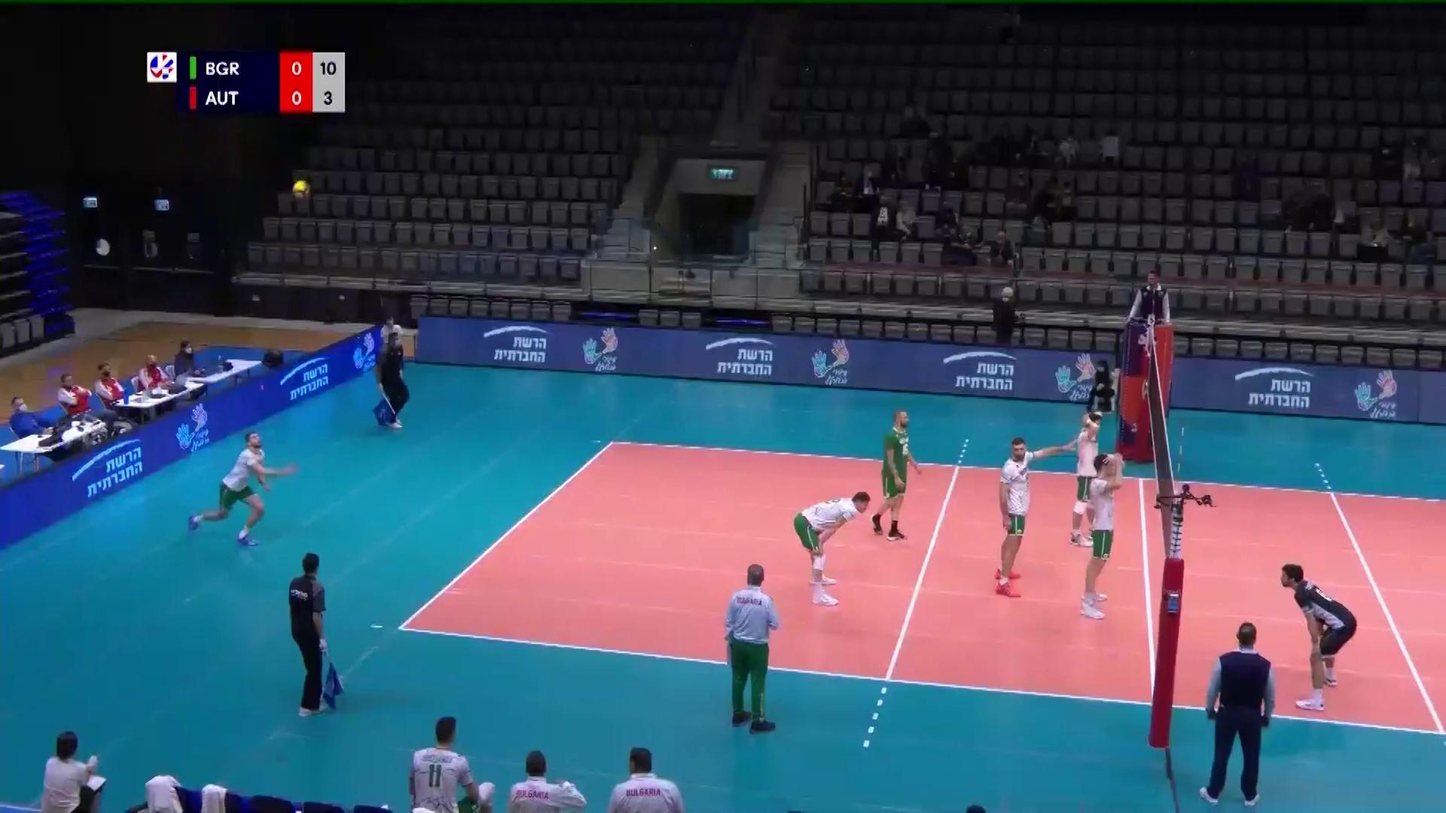ball: (291, 180, 312, 199)
